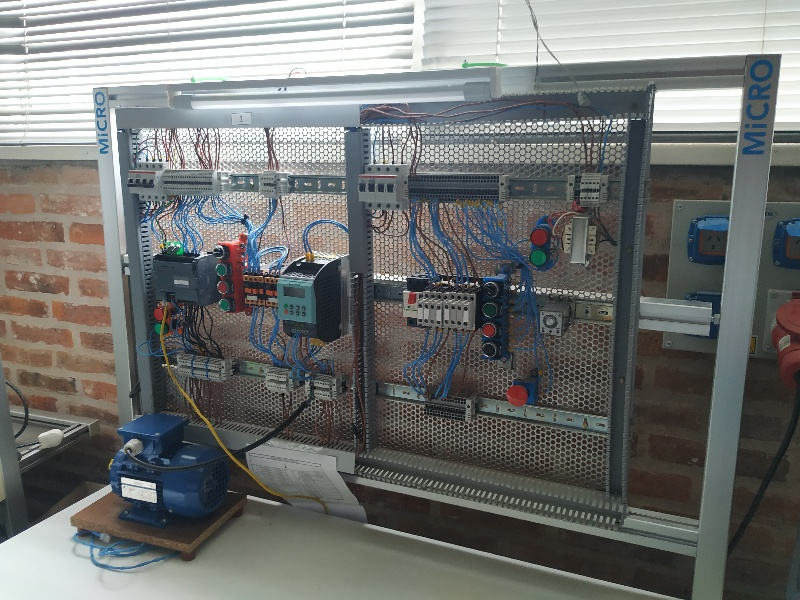Tablero 1: (123, 123, 638, 502)
